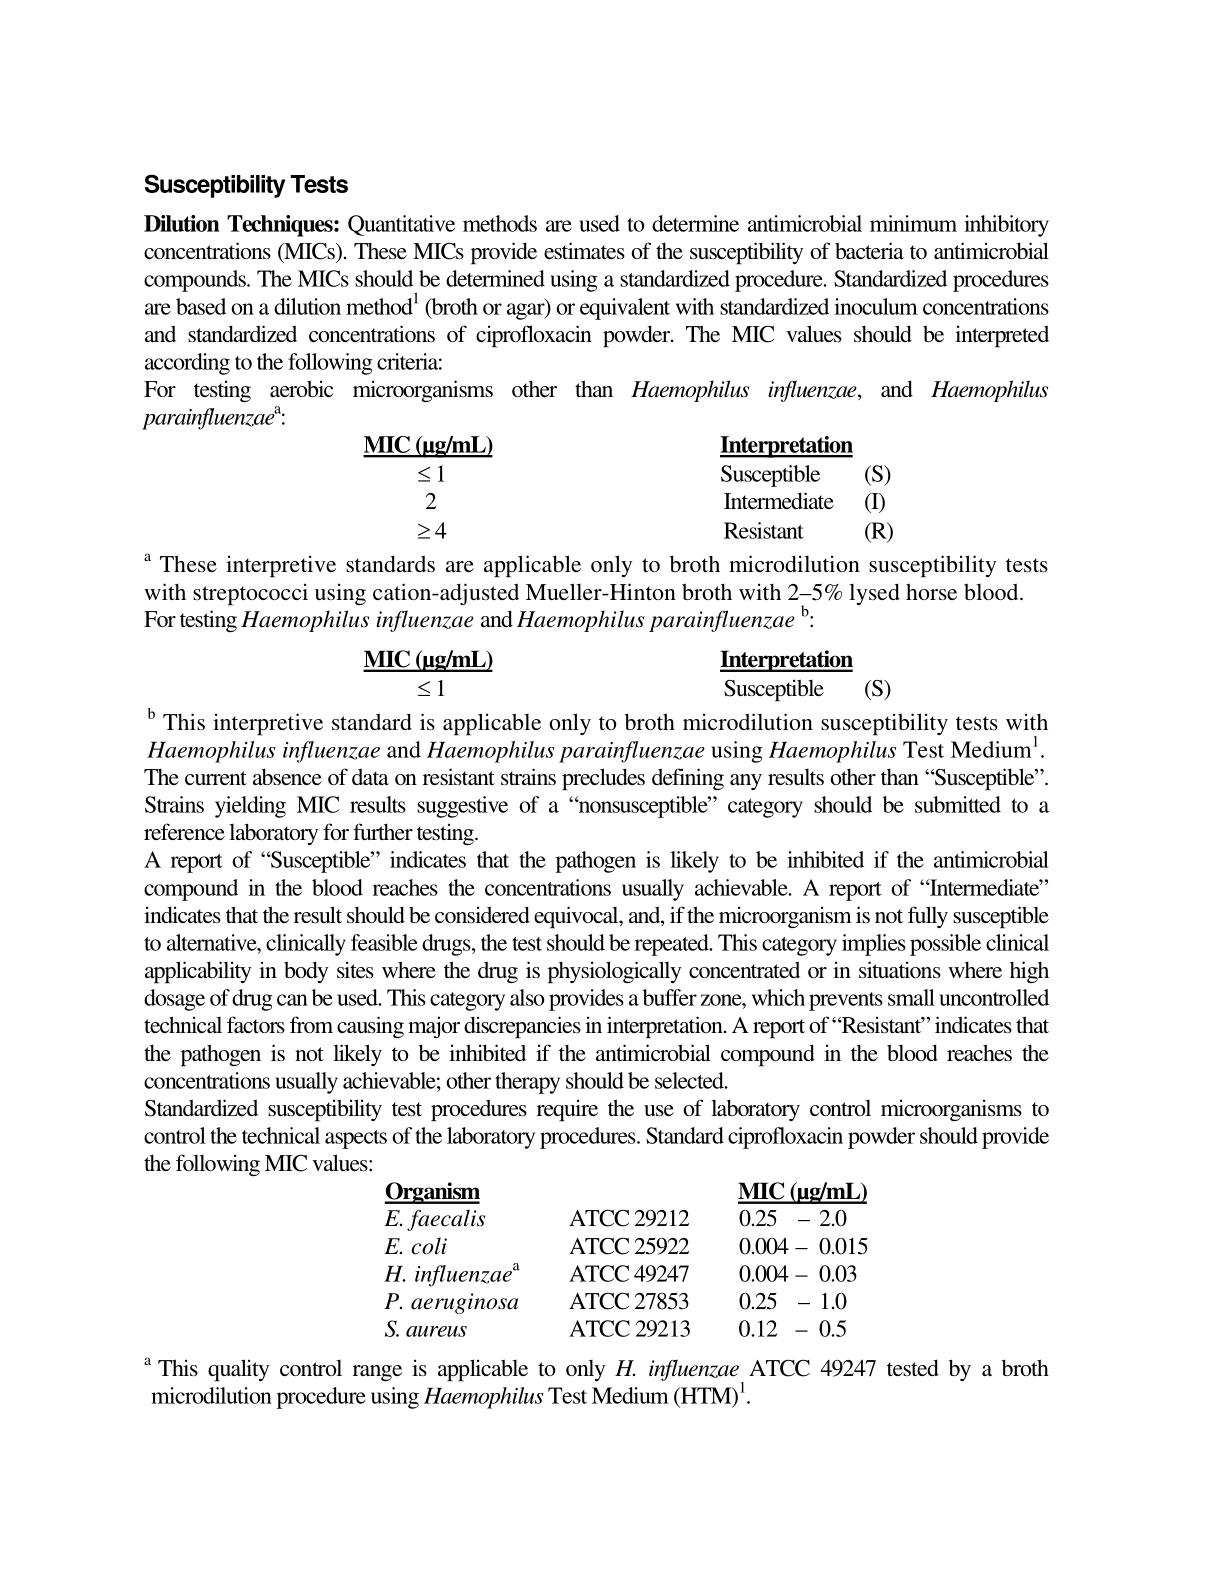nolines: (383, 1178, 870, 1338), (361, 431, 897, 545), (363, 647, 894, 703)
